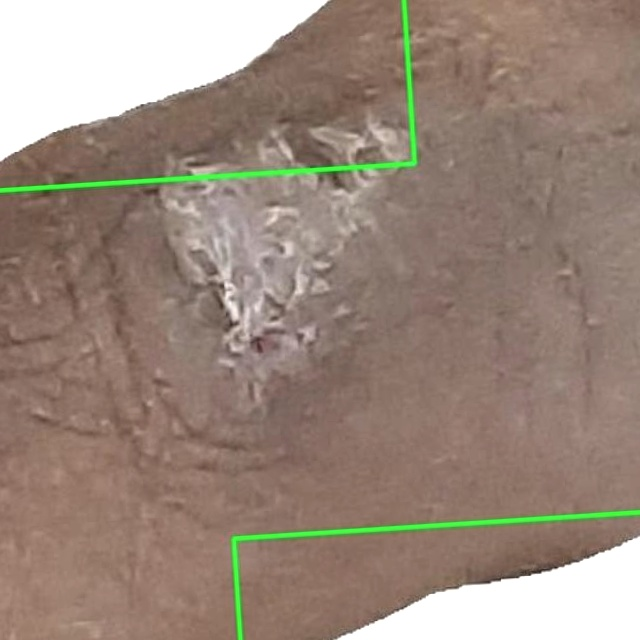Contact Dermatitis: (0, 0, 414, 190), (232, 512, 639, 639)
